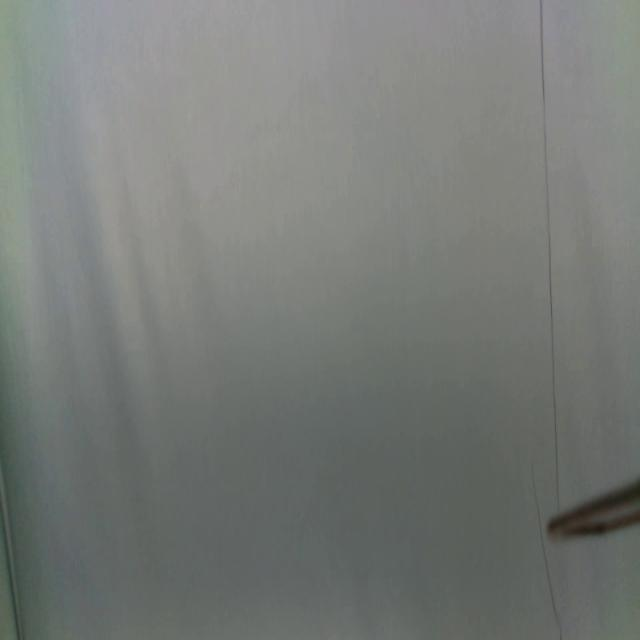crease: (539, 0, 560, 504), (527, 476, 558, 624), (0, 469, 24, 640)
